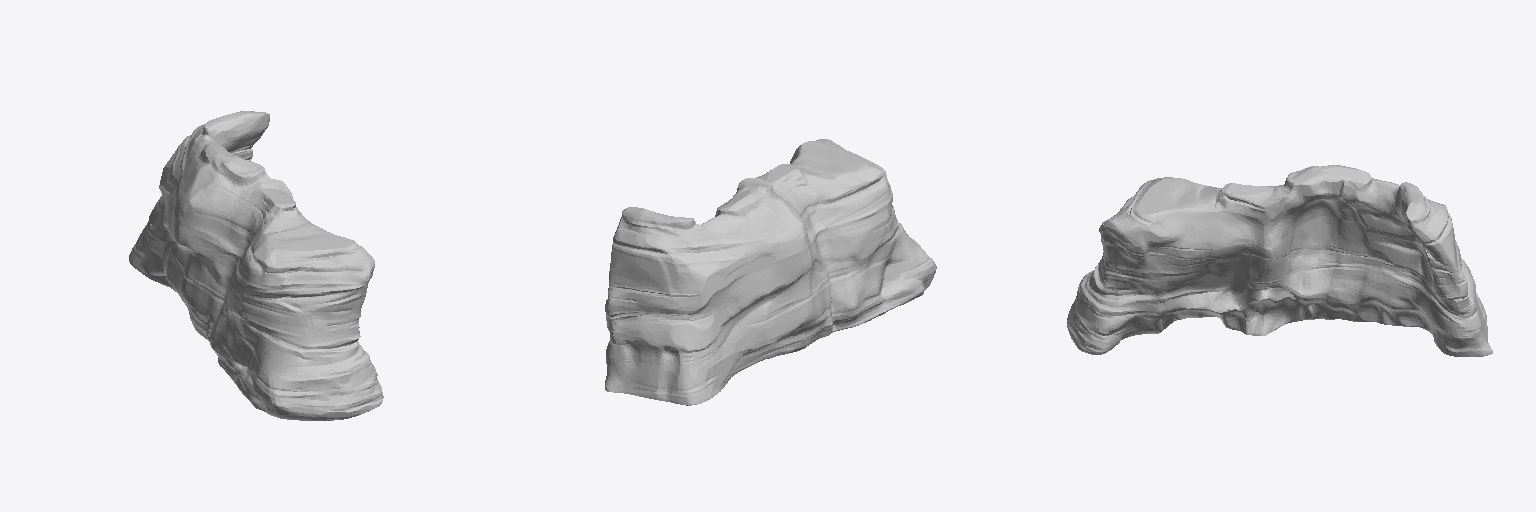
Rendered from Cliff_Start_Left.obj.
The picture shows the model from 3 angles: view 1: azimuth 30°, elevation 25°; view 2: azimuth 150°, elevation 25°; view 3: azimuth 270°, elevation 25°; orthographic projection.
Size of the model in its own units: 71.92 by 73.01 by 166.